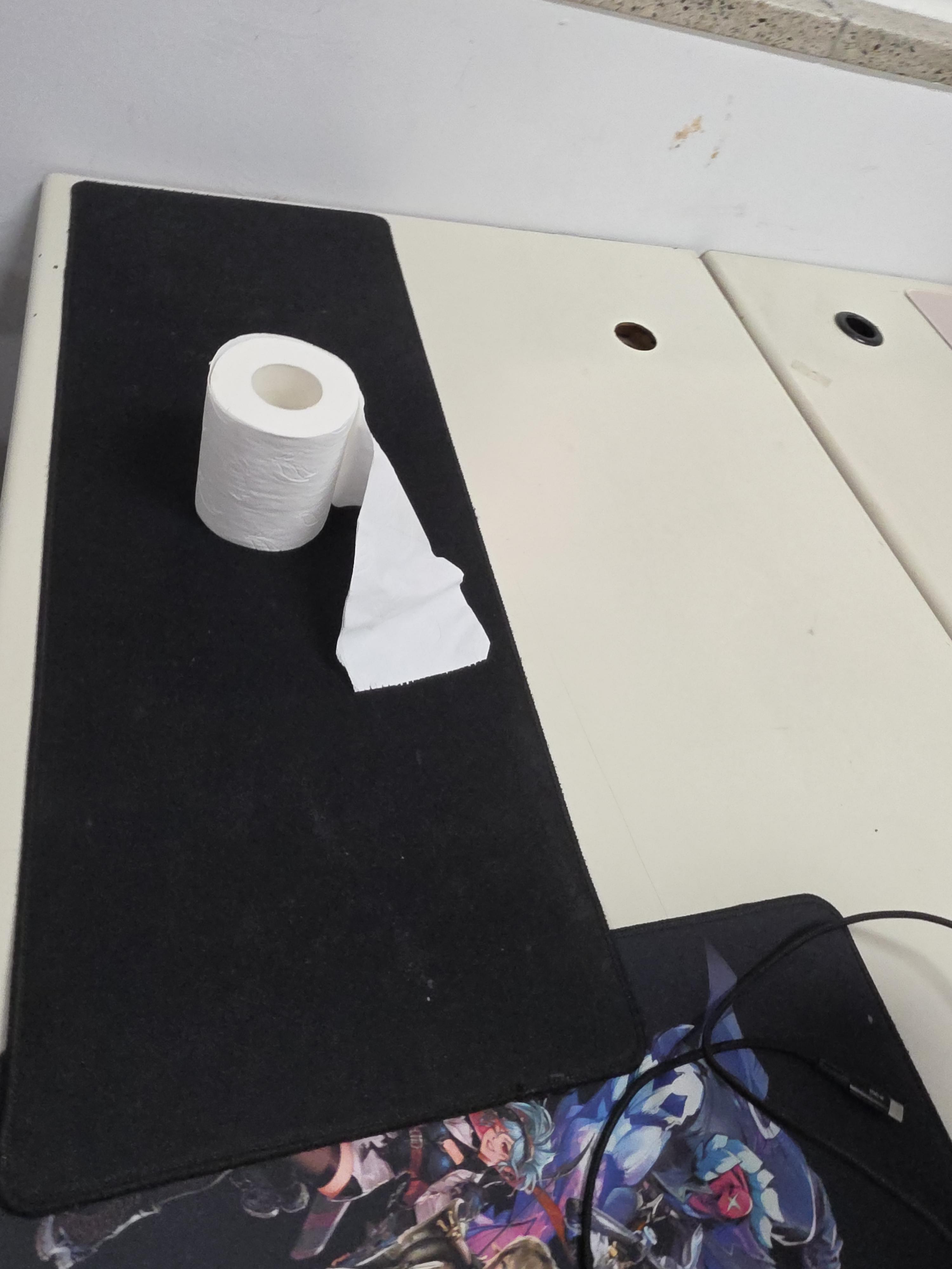tissue: (194, 331, 493, 694)
